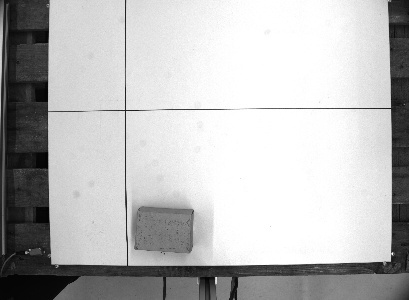b6: (131, 202, 197, 255)
